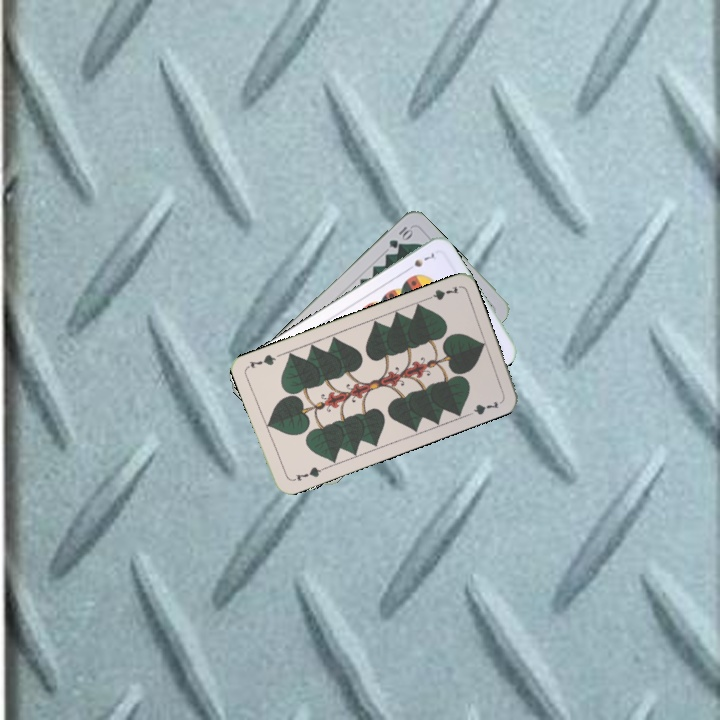G10: (385, 222, 415, 251)
G7: (421, 282, 461, 303), (288, 463, 327, 484)
S7: (402, 249, 437, 274)
